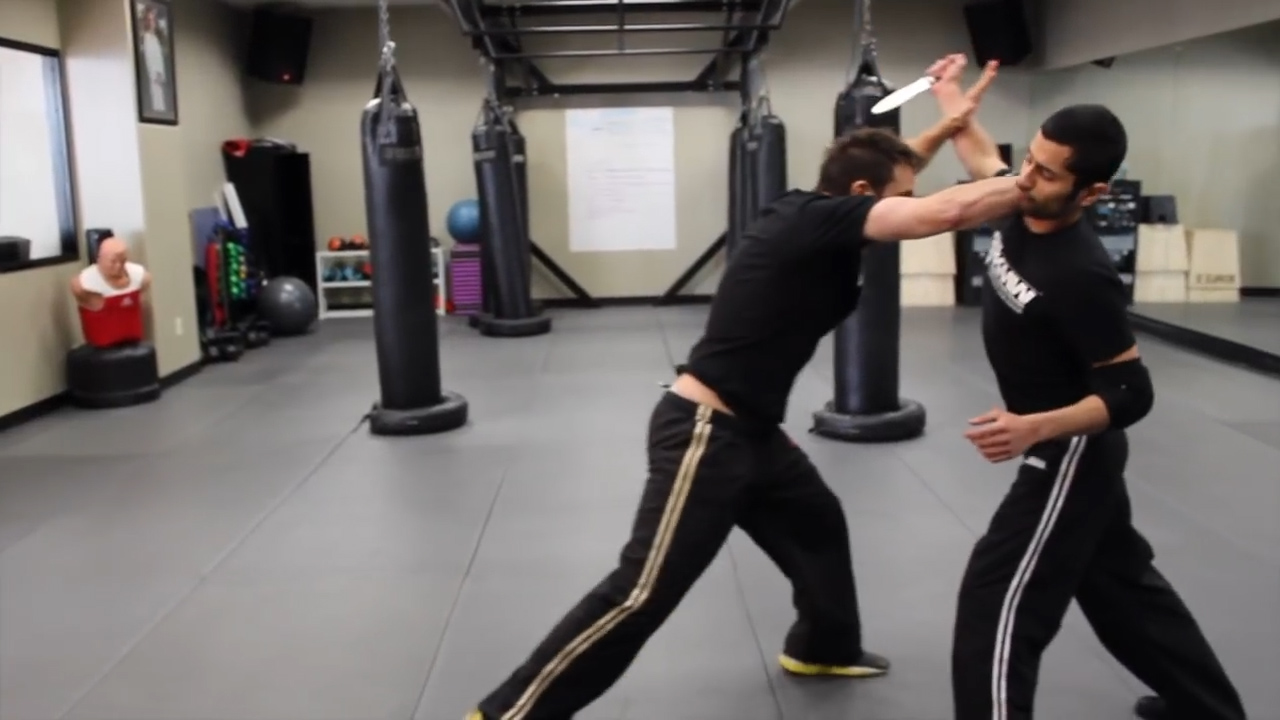knife: (861, 48, 972, 119)
